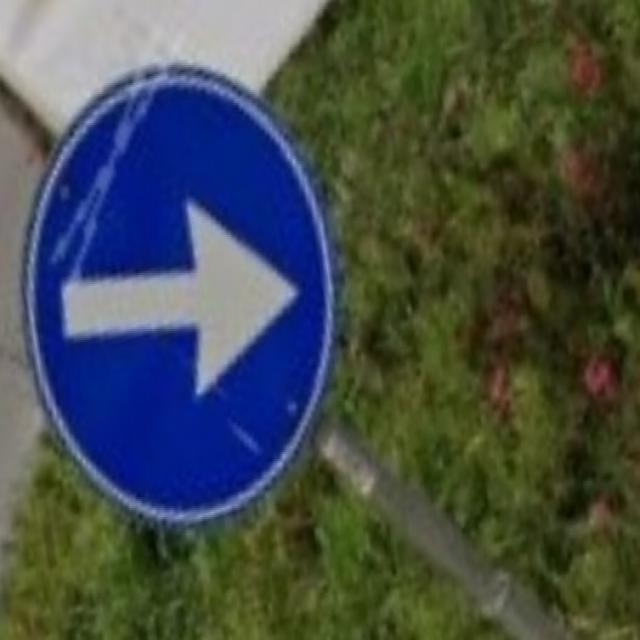Turn Right: (18, 65, 335, 532)
